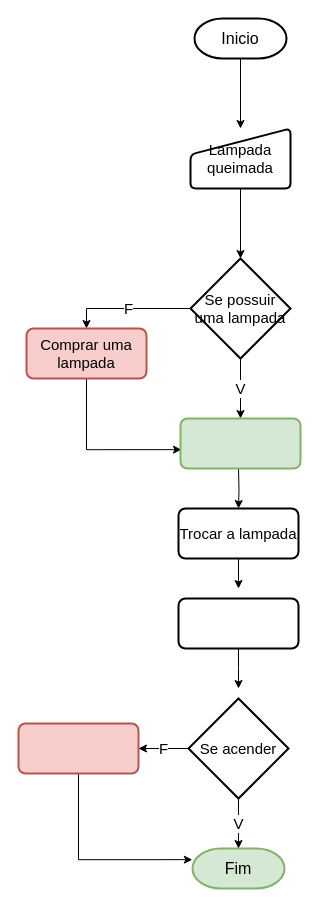
Image size: 318x906. Some labels were removed from this diagram. Here are the shapes that lost their labels. From the top down, the centre of each, then its label:
At [240,443]: "Posicionar a escada".
At [238,623]: "Testar a lampada".
At [78,748]: "Chamar o eletricista".
